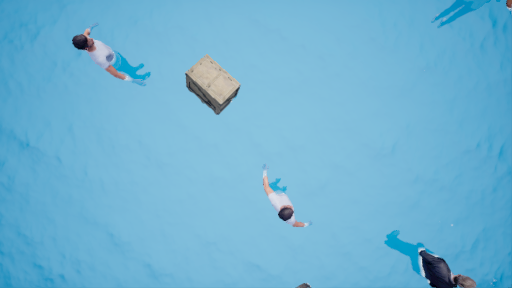person: (76, 24, 160, 97), (382, 235, 462, 288), (260, 169, 309, 233)
